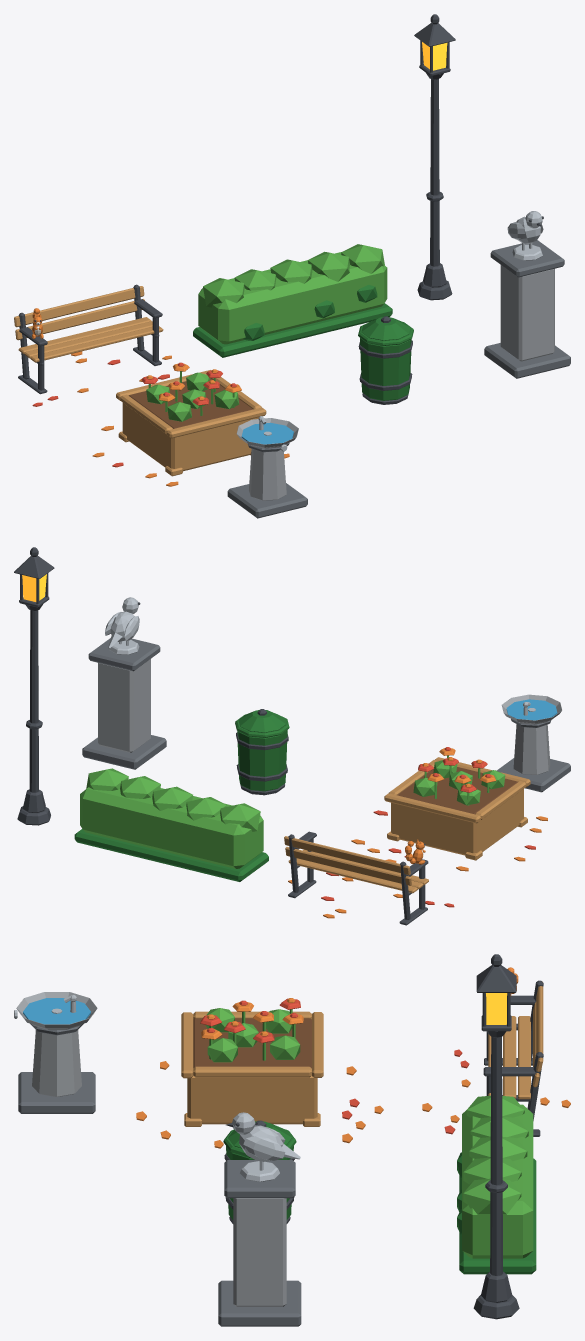
File: low-poly-park-props.glb
3 views of the same model, one above another, from view 1: azimuth 30°, elevation 25°; view 2: azimuth 150°, elevation 25°; view 3: azimuth 270°, elevation 25° (orthographic). The views are drawn at different scales.
Parts seen in each view (by area): view 1: Hedge_Body, Statue_Pillar, Planter_Box, Hedge_Base, Bin_Body, Lamp_Pole, Fountain_Column, Planter_Soil, Statue_Base, Fountain_Base, Statue_Capital, Bench_BackSlat_1 (+12 smaller); view 2: Hedge_Body, Planter_Box, Statue_Pillar, Hedge_Base, Bin_Body, Planter_Soil, Lamp_Pole, Fountain_Column, Statue_Base, Statue_Capital, Bench_BackSlat_1, Bench_BackSlat_0 (+14 smaller); view 3: Statue_Pillar, Planter_Box, Hedge_Body, Fountain_Column, Lamp_Pole, Planter_Soil, Statue_Base, Fountain_Base, Statue_Capital, Hedge_Base, Planter_Rim_3, Fountain_Water (+21 smaller).
Boxes of the visible parts, x1,y1,x2,y2 form: Hedge_Body: [198, 252, 387, 344]; Statue_Pillar: [500, 265, 554, 361]; Planter_Box: [122, 403, 258, 471]; Hedge_Base: [193, 303, 392, 357]; Bin_Body: [360, 338, 411, 400]; Lamp_Pole: [430, 79, 439, 266]; Fountain_Column: [249, 449, 286, 500]; Planter_Soil: [129, 378, 252, 428]; Statue_Base: [484, 343, 570, 378]; Fountain_Base: [227, 483, 307, 518]; Statue_Capital: [490, 240, 564, 277]; Bench_BackSlat_1: [14, 286, 144, 327]; Hedge_Body: [80, 787, 263, 868]; Planter_Box: [391, 789, 523, 855]; Statue_Pillar: [98, 659, 150, 752]; Hedge_Base: [74, 829, 268, 881]; Bin_Body: [237, 730, 287, 791]; Planter_Soil: [397, 767, 517, 814]; Lamp_Pole: [29, 610, 38, 792]; Fountain_Column: [513, 724, 550, 774]; Statue_Base: [82, 735, 166, 769]; Statue_Capital: [88, 638, 160, 671]; Bench_BackSlat_1: [284, 836, 410, 875]; Bench_BackSlat_0: [285, 847, 411, 885]; Statue_Pillar: [233, 1198, 286, 1306]; Planter_Box: [187, 1075, 317, 1124]; Hedge_Body: [462, 1104, 533, 1258]; Fountain_Column: [32, 1030, 81, 1096]; Lamp_Pole: [490, 1037, 502, 1275]; Planter_Soil: [193, 1018, 311, 1068]; Statue_Base: [218, 1280, 301, 1326]; Fountain_Base: [18, 1072, 95, 1113]; Statue_Capital: [224, 1160, 295, 1198]; Hedge_Base: [459, 1158, 536, 1274]; Planter_Rim_3: [193, 1066, 311, 1077]; Fountain_Water: [23, 998, 90, 1024].
Size of the model in its own units: 22.44 by 13.25 by 18.78.
